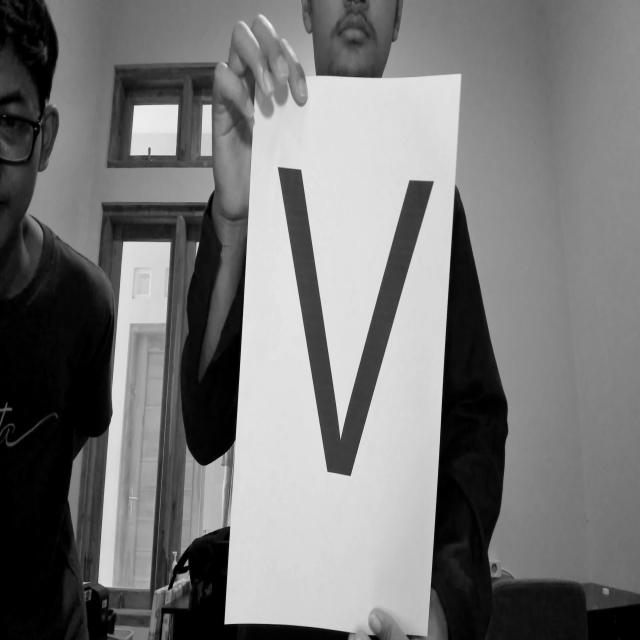v: (268, 138, 442, 501)
